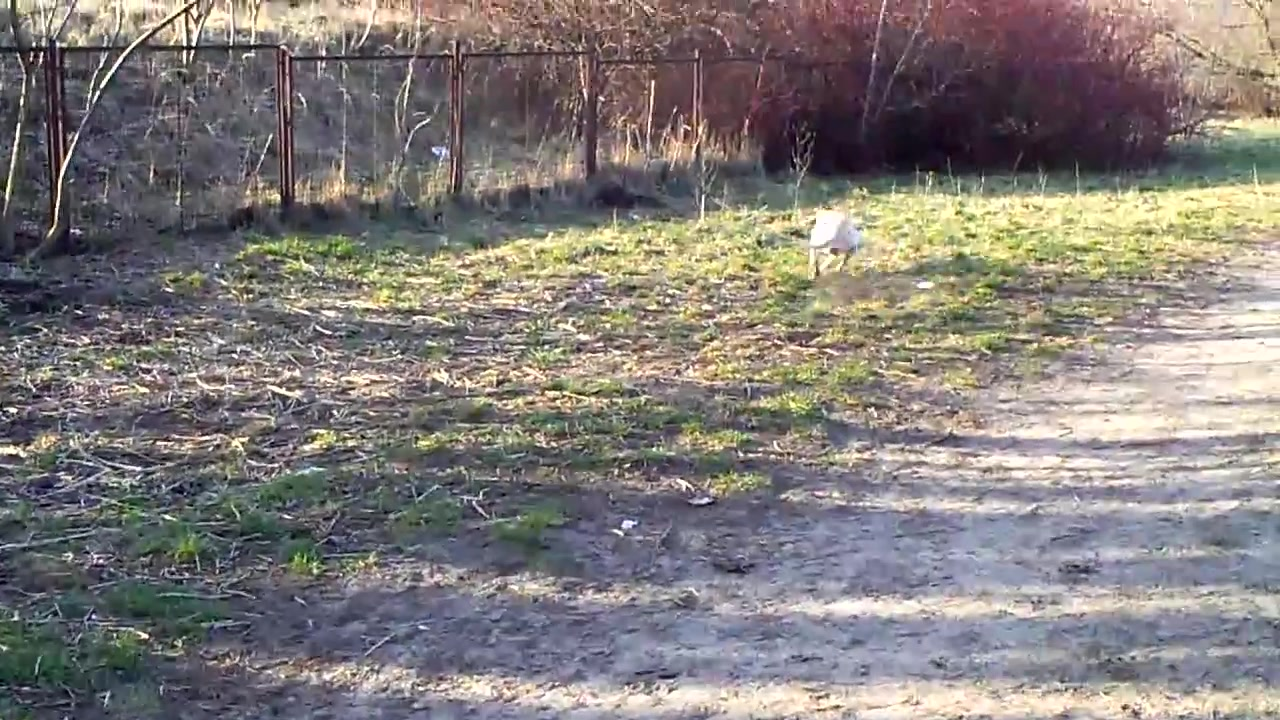dog: (809, 205, 871, 279)
